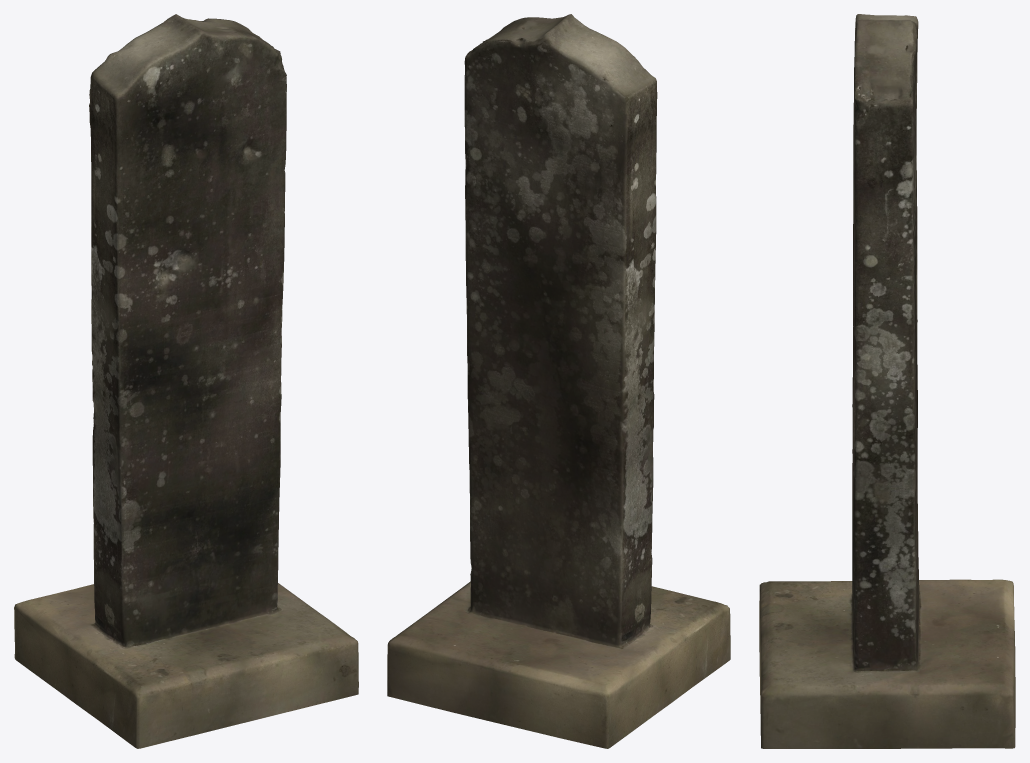
Rendered from MysonMuseum_biadatheki1203msd316_final.glb.
3 renders of one model, left to right at view 1: azimuth 30°, elevation 25°; view 2: azimuth 150°, elevation 25°; view 3: azimuth 270°, elevation 25°, orthographic. The views are drawn at different scales.
Size of the model in its own units: 0.7923 by 2.23 by 0.7669.
Materials: 1 (1 with a texture image).
